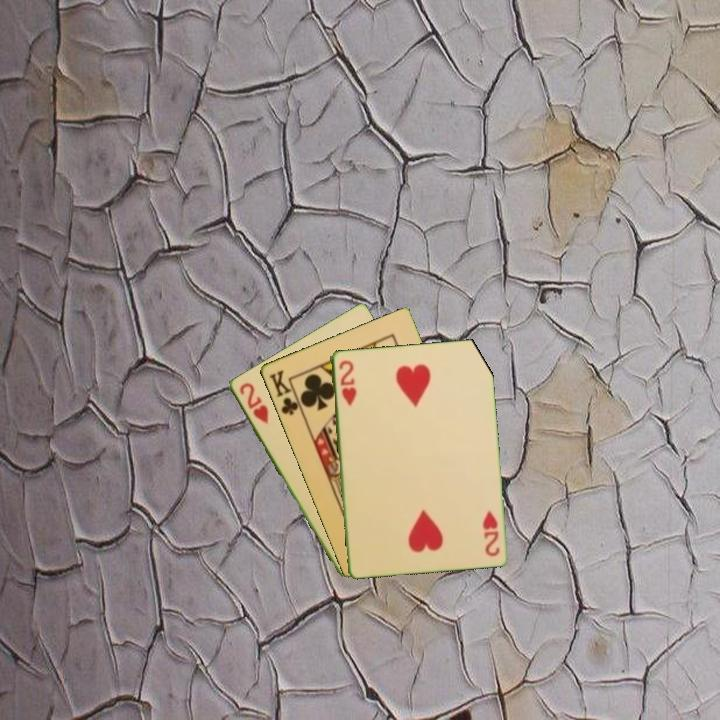2h: (235, 379, 271, 427), (335, 356, 359, 409), (479, 507, 502, 559)
Kc: (265, 366, 305, 418)
